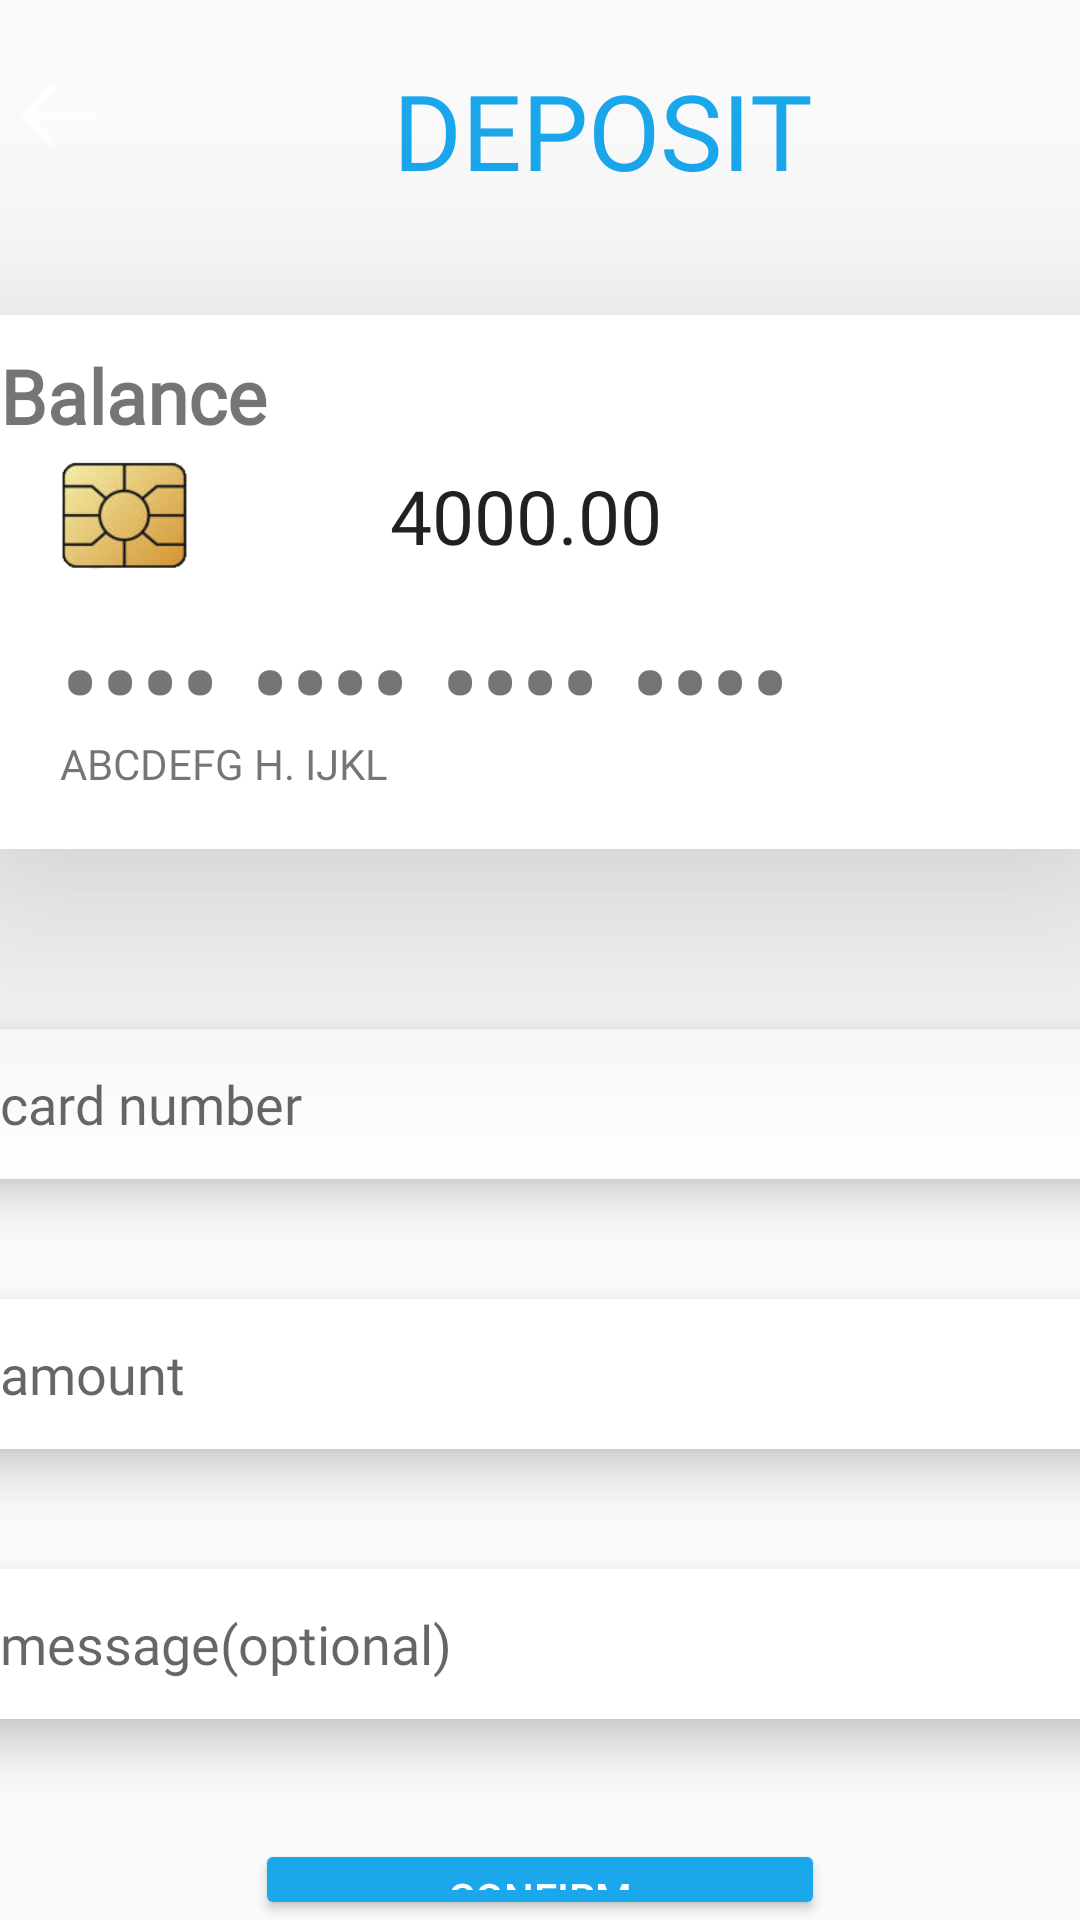

Icon bounding boxes for this 1080 x 1920 phone screenshot, format bbox=(x1, y1, x2, y2):
sim: bbox=(62, 462, 187, 569)
